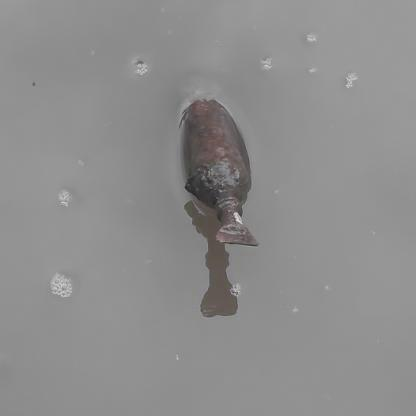Glass: (183, 97, 264, 247)
